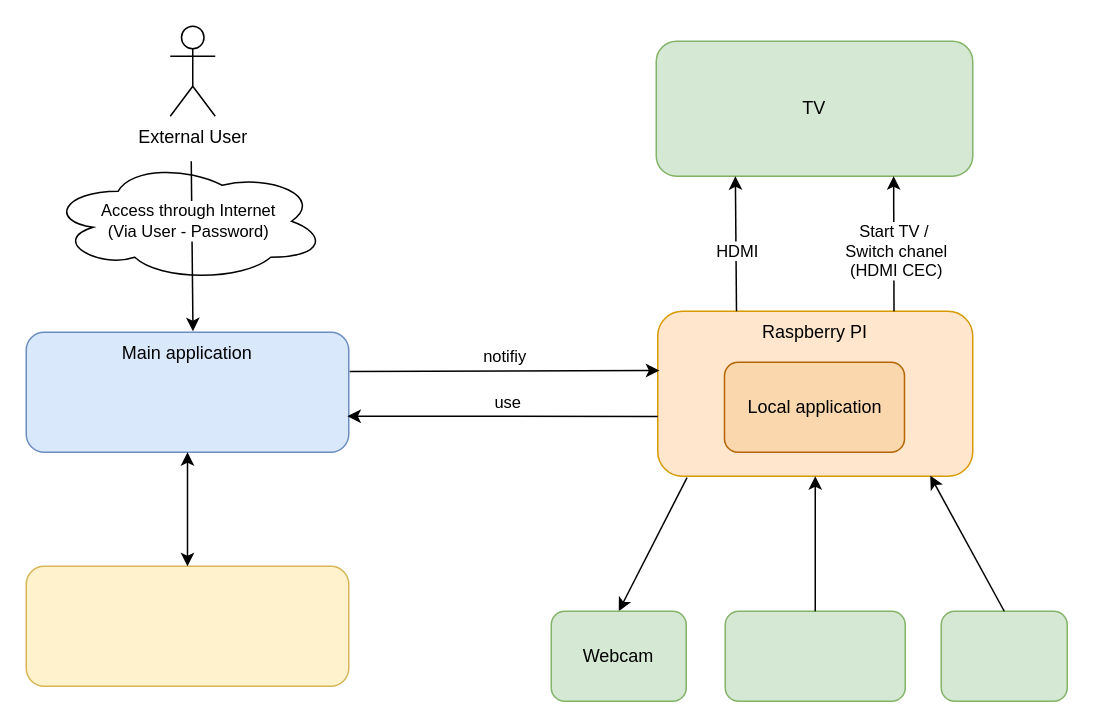
This 1094x728 diagram has some shape labels left out. Here are the shapes that lost their labels. From the top down, the centre of each, then its label:
At (x=187, y=625): "Identity and Access Management application".
At (x=814, y=655): "TV remote".
At (x=1003, y=655): "Microphone".
